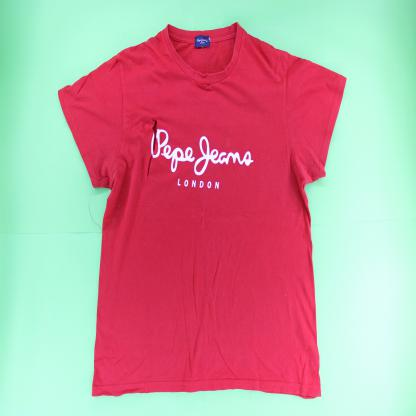hole: (144, 117, 159, 183), (194, 79, 213, 90)
